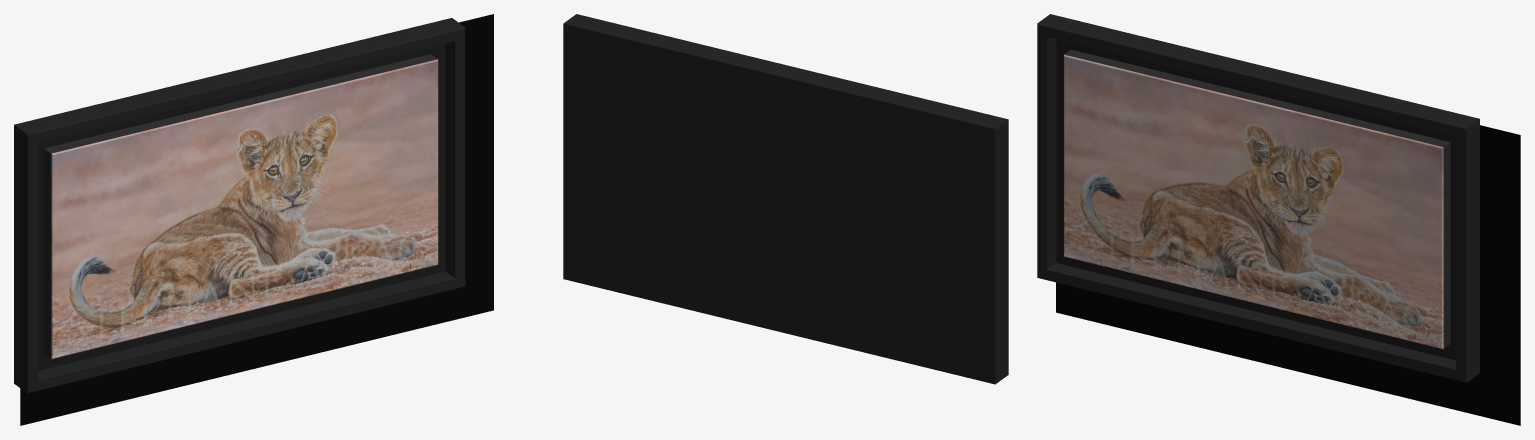
Rendered from tableau-lionceau-classique-6238957c.glb.
3 renders of one model, left to right at view 1: azimuth 30°, elevation 25°; view 2: azimuth 150°, elevation 25°; view 3: azimuth 330°, elevation 25°, orthographic.
Visible parts, largest first — view 1: Painting; view 2: Painting; view 3: Painting.
Boxes of the visible parts, x1,y1,x2,y2 form: Painting: [14, 14, 493, 425]; Painting: [563, 14, 1008, 384]; Painting: [1037, 14, 1520, 425].
Size of the model in its own units: 0.806 by 0.486 by 0.04.
5 materials, 3 textured.
